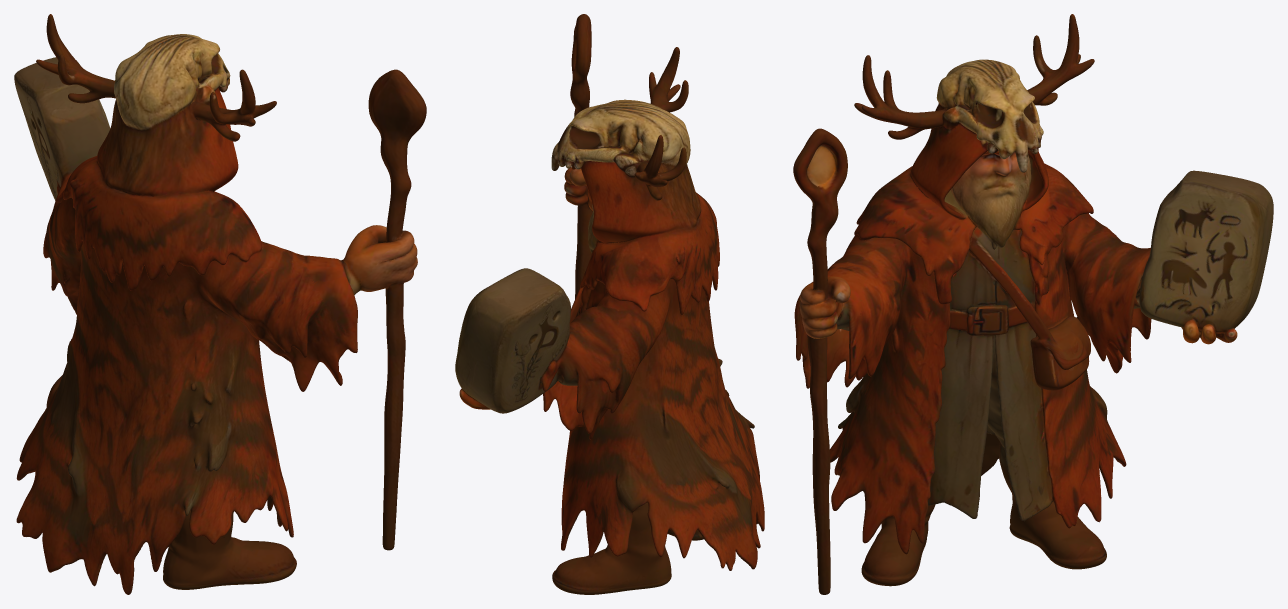
3 views of the same model, side by side, from view 1: azimuth 30°, elevation 25°; view 2: azimuth 150°, elevation 25°; view 3: azimuth 270°, elevation 25° (orthographic). The views are drawn at different scales.
Visible parts, largest first — view 1: tripo_node_6de188c7-d3b2-4997-8358-860cc8fa3ab3; view 2: tripo_node_6de188c7-d3b2-4997-8358-860cc8fa3ab3; view 3: tripo_node_6de188c7-d3b2-4997-8358-860cc8fa3ab3.
Part boxes in pixels (x1=…): tripo_node_6de188c7-d3b2-4997-8358-860cc8fa3ab3: x1=14, y1=14, x2=426, y2=594; tripo_node_6de188c7-d3b2-4997-8358-860cc8fa3ab3: x1=455, y1=14, x2=764, y2=594; tripo_node_6de188c7-d3b2-4997-8358-860cc8fa3ab3: x1=793, y1=14, x2=1273, y2=594.
Size of the model in its own units: 0.5819 by 1 by 0.8606.
1 material, 1 textured.
